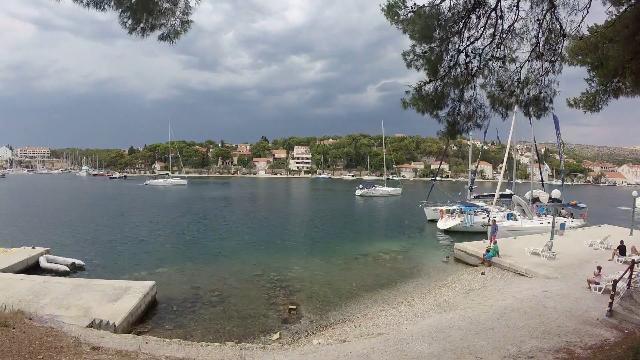Sailboat: (352, 180, 406, 200), (140, 172, 192, 188)
speedboat: (108, 170, 130, 182)
